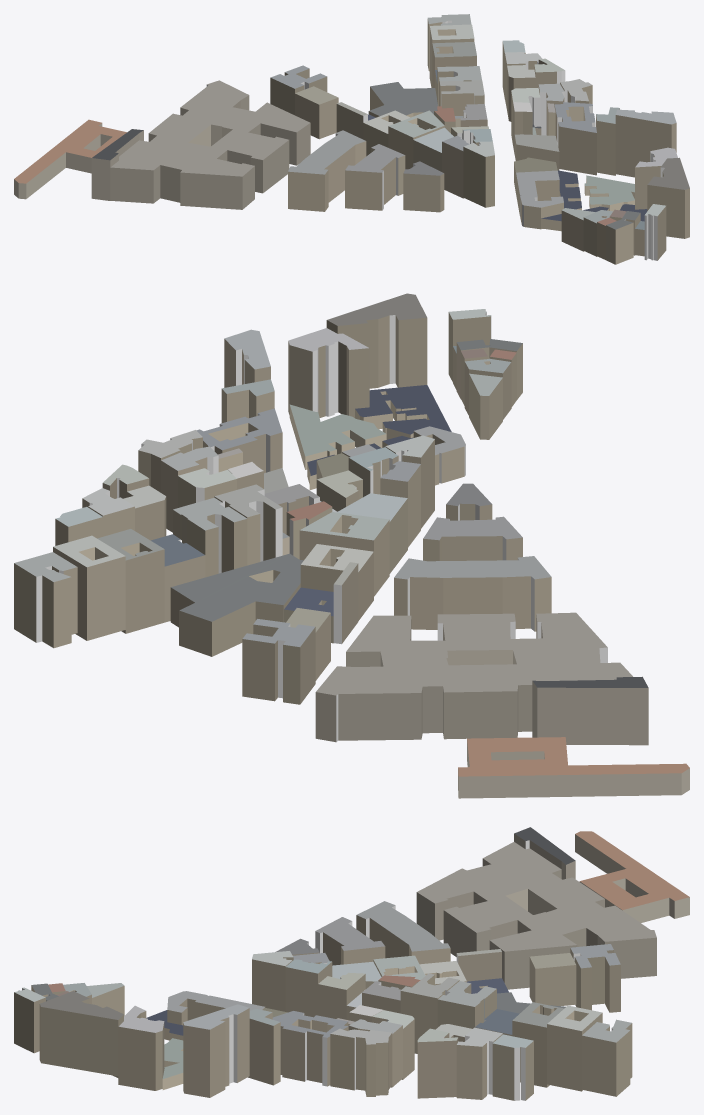
3 views of the same model, one above another, from view 1: azimuth 30°, elevation 25°; view 2: azimuth 150°, elevation 25°; view 3: azimuth 270°, elevation 25° (orthographic). The views are drawn at different scales.
Visible parts, largest first — view 1: tuile; view 2: tuile; view 3: tuile.
Part boxes in pixels (x1,y1,x2,y2): tuile: (14,14,689,264); tuile: (14,293,689,798); tuile: (14,827,689,1100).
Size of the model in its own units: 267 by 43.23 by 276.
